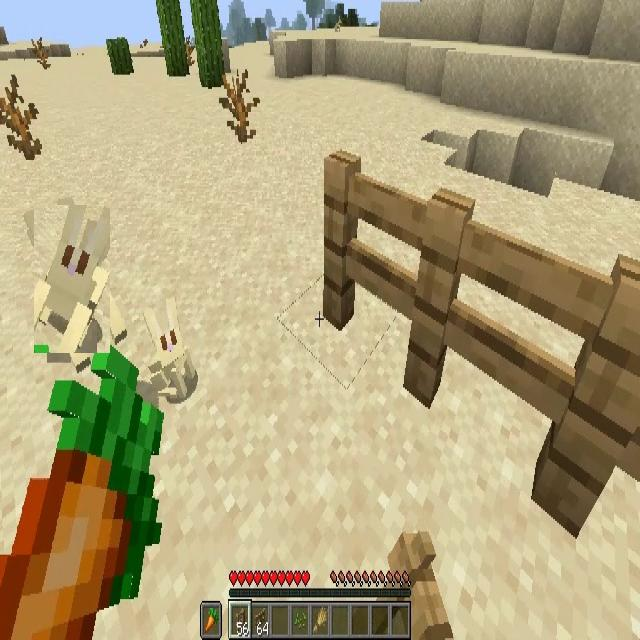rabbit: (34, 205, 110, 353), (143, 300, 189, 394)
